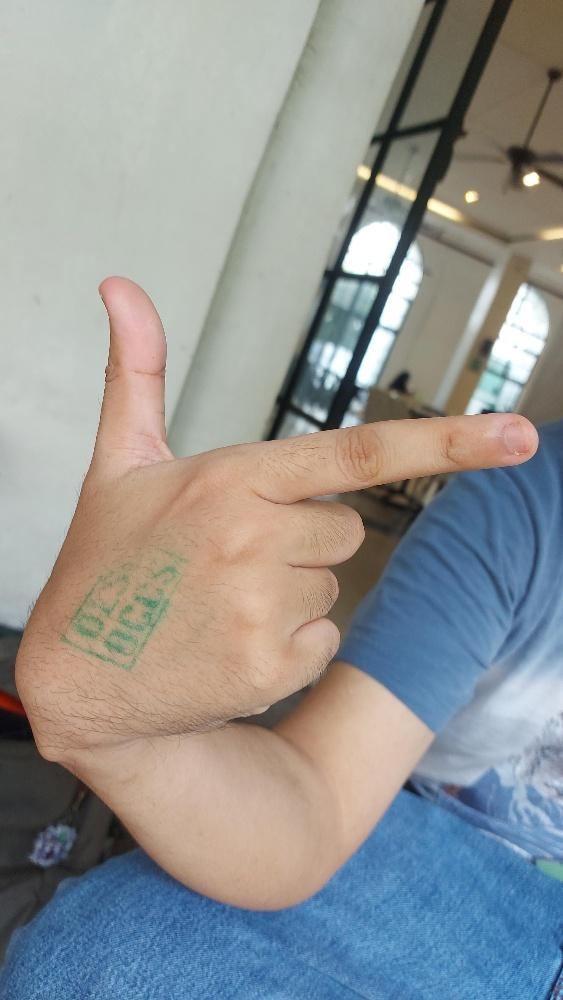g: (13, 274, 539, 747)
